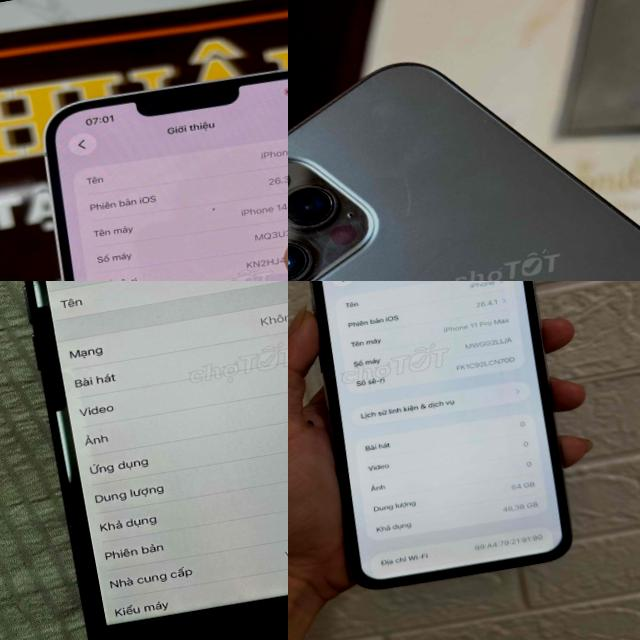gen_11: (292, 281, 586, 603)
gen_12_13: (288, 0, 640, 281)
gen_14: (15, 43, 288, 281)
gen_7_8: (0, 281, 288, 640)
